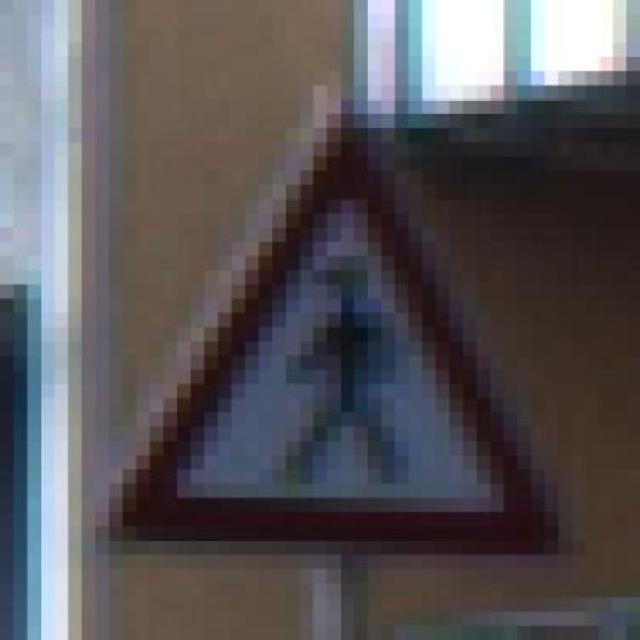Pedestrian Crossing: (54, 85, 572, 569)
